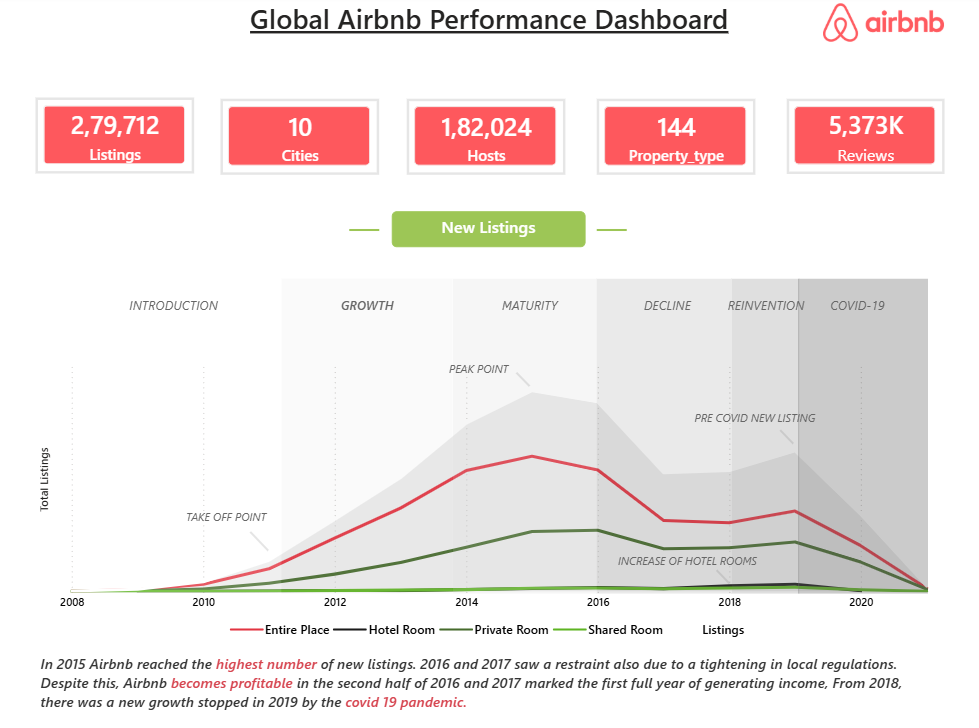

This screenshot's page, from the dashboard's own definition file:
{"tool":"powerbi","page":{"name":"Overview","canvas":[960,720],"ordinal":0},"visuals":[{"type":"shape","box":[585.7,204.2,29.3,51.4],"z":0},{"type":"shape","box":[343.6,204.2,29.3,51.4],"z":1000},{"type":"textbox","box":[385.2,211.6,189.5,35.5],"z":2000},{"type":"textbox","box":[217.1,0,525.8,46.5],"z":3000},{"type":"image","box":[807.1,7.3,118.6,39.1],"z":4000},{"type":"cardVisual","fields":{"Data":["Count(Listings.listing_id)"]},"box":[36.7,100.3,155.3,74.6],"z":5000},{"type":"cardVisual","fields":{"Data":["Count(Listings.host_id)"]},"box":[399.9,101.5,155.3,74.6],"z":6000},{"type":"cardVisual","fields":{"Data":["Count(Listings.property_type)"]},"box":[585.7,101.5,155.3,74.6],"z":7000},{"type":"cardVisual","fields":{"Data":["CountNonNull(public reviews.review_id)"]},"box":[771.6,101.5,154.1,73.4],"z":8000},{"type":"cardVisual","fields":{"Data":["Count(Listings.city)"]},"box":[217.7,101.5,155.3,74.6],"z":9000},{"type":"lineChart","fields":{"Category":["Listings.host_since.Variation.Date Hierarchy.Year"],"Y":["Listings.Entire place","Listings.Hotel Room","Listings.private room","Listings.shared room","CountNonNull(Listings.listing_id)"]},"box":[36.7,351,889,288.6],"z":10000},{"type":"shape","box":[782.6,277.6,127.2,308.2],"z":11000},{"type":"shape","box":[70.9,277.6,206.7,308.2],"z":12000},{"type":"shape","box":[277.6,277.6,167.5,308.2],"z":13000},{"type":"shape","box":[445.1,277.6,140.6,308.2],"z":14000},{"type":"shape","box":[585.7,277.6,132.1,308.2],"z":15000},{"type":"shape","box":[717.8,277.6,66,308.2],"z":16000},{"type":"textbox","box":[117.4,288.6,108.8,33],"z":17000},{"type":"textbox","box":[306.9,288.6,108.8,33],"z":18000},{"type":"textbox","box":[465.9,288.6,108.8,33],"z":19000},{"type":"textbox","box":[600.4,288.6,108.8,33],"z":20000},{"type":"textbox","box":[682.3,288.6,138.2,33],"z":21000},{"type":"textbox","box":[771.6,288.6,138.2,33],"z":22000},{"type":"textbox","box":[168.8,495.2,108.8,33],"z":23000},{"type":"shape","box":[245.8,512.4,19.6,44],"z":24000},{"type":"textbox","box":[415.8,351,108.8,33],"z":25000},{"type":"shape","box":[506.3,359.5,14.7,33],"z":26000},{"type":"textbox","box":[651.8,398.6,177.3,33],"z":27000},{"type":"shape","box":[764.3,415.8,14.7,33],"z":28000},{"type":"textbox","box":[585.7,538,177.3,35.5],"z":29000},{"type":"shape","box":[701.9,552.7,14.7,33],"z":30000},{"type":"textbox","box":[36.7,639.5,873.1,68.5],"z":31000}]}

Visuals, with their boxes in screenshot pixels (x1, y1, x2, y2), scaled from the page's 960x720 canvas onto the 979x728 screenshot:
shape: x1=597, y1=206, x2=627, y2=258
shape: x1=350, y1=206, x2=380, y2=258
textbox: x1=393, y1=214, x2=586, y2=250
textbox: x1=221, y1=0, x2=758, y2=47
image: x1=823, y1=7, x2=944, y2=47
cardVisual - Count(Listings.listing_id): x1=37, y1=101, x2=196, y2=177
cardVisual - Count(Listings.host_id): x1=408, y1=103, x2=566, y2=178
cardVisual - Count(Listings.property_type): x1=597, y1=103, x2=756, y2=178
cardVisual - CountNonNull(public reviews.review_id): x1=787, y1=103, x2=944, y2=177
cardVisual - Count(Listings.city): x1=222, y1=103, x2=380, y2=178
lineChart - Listings.host_since.Variation.Date Hierarchy.Year x Listings.Entire place: x1=37, y1=355, x2=944, y2=647
shape: x1=798, y1=281, x2=928, y2=592
shape: x1=72, y1=281, x2=283, y2=592
shape: x1=283, y1=281, x2=454, y2=592
shape: x1=454, y1=281, x2=597, y2=592
shape: x1=597, y1=281, x2=732, y2=592
shape: x1=732, y1=281, x2=799, y2=592
textbox: x1=120, y1=292, x2=231, y2=325
textbox: x1=313, y1=292, x2=424, y2=325
textbox: x1=475, y1=292, x2=586, y2=325
textbox: x1=612, y1=292, x2=723, y2=325
textbox: x1=696, y1=292, x2=837, y2=325
textbox: x1=787, y1=292, x2=928, y2=325
textbox: x1=172, y1=501, x2=283, y2=534
shape: x1=251, y1=518, x2=271, y2=563
textbox: x1=424, y1=355, x2=535, y2=388
shape: x1=516, y1=363, x2=531, y2=397
textbox: x1=665, y1=403, x2=846, y2=436
shape: x1=779, y1=420, x2=794, y2=454
textbox: x1=597, y1=544, x2=778, y2=580
shape: x1=716, y1=559, x2=731, y2=592
textbox: x1=37, y1=647, x2=928, y2=716
